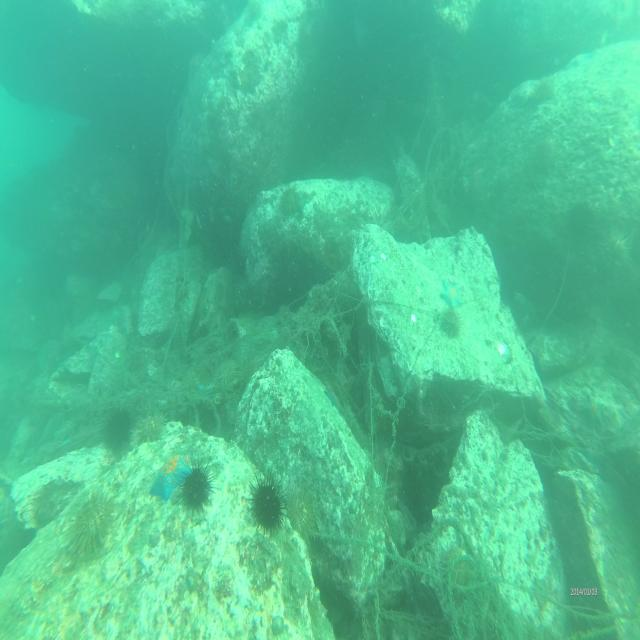echinus: (68, 496, 118, 564), (250, 478, 284, 531), (184, 460, 212, 512), (104, 409, 132, 450), (137, 411, 164, 446), (279, 183, 303, 220), (442, 307, 462, 343)
starfish: (153, 456, 189, 503), (440, 276, 462, 312)
